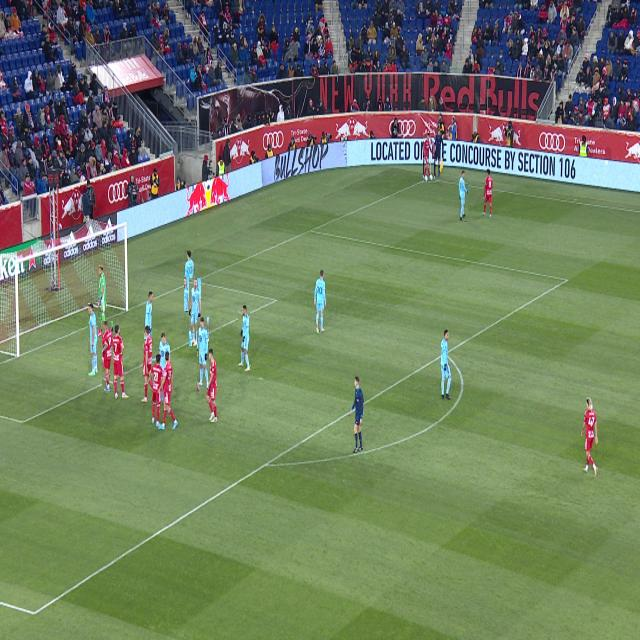football: (425, 175, 428, 182)
goalkeeper: (99, 265, 106, 336)
player: (157, 351, 178, 430), (107, 325, 129, 400), (581, 397, 598, 478), (148, 354, 163, 427), (206, 349, 218, 423), (197, 318, 209, 390), (440, 329, 452, 399), (141, 326, 152, 402), (189, 278, 201, 346), (102, 322, 113, 392), (314, 270, 326, 334), (88, 303, 98, 376), (239, 306, 250, 372), (185, 251, 194, 311), (483, 169, 493, 218), (159, 333, 170, 377), (424, 134, 434, 180), (459, 171, 468, 221), (145, 292, 153, 339), (110, 345, 112, 350), (162, 394, 163, 402), (151, 376, 152, 383), (145, 334, 146, 339)
referee: (350, 377, 363, 453)
